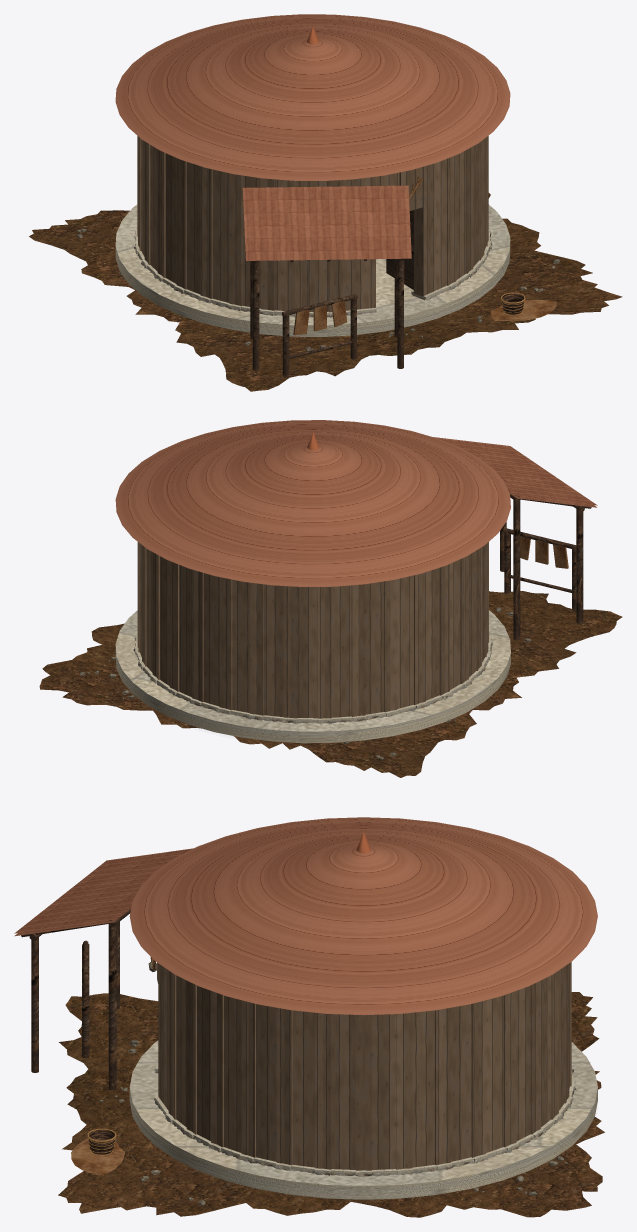
File: hunter@2.glb
3 views of the same model, one above another, from view 1: azimuth 30°, elevation 25°; view 2: azimuth 150°, elevation 25°; view 3: azimuth 270°, elevation 25° (orthographic). The views are drawn at different scales.
Parts seen in each view (by area): view 1: part_15, part_6, part_1, part_5, part_7, part_10, part_4; view 2: part_15, part_6, part_1, part_5, part_7, part_4, part_10; view 3: part_15, part_6, part_1, part_5, part_7, part_4, part_10, part_9.
Part boxes in pixels (<box>): part_15: <box>115,14,510,260</box>; part_6: <box>137,136,488,312</box>; part_1: <box>29,193,622,391</box>; part_5: <box>115,204,510,336</box>; part_7: <box>250,210,413,375</box>; part_10: <box>293,176,556,335</box>; part_4: <box>134,228,492,317</box>; part_15: <box>115,420,597,586</box>; part_6: <box>137,542,488,718</box>; part_1: <box>39,591,622,777</box>; part_5: <box>115,610,510,743</box>; part_7: <box>500,490,591,640</box>; part_4: <box>133,634,492,723</box>; part_10: <box>520,536,568,568</box>; part_15: <box>14,817,597,1014</box>; part_6: <box>157,962,571,1170</box>; part_1: <box>58,992,604,1217</box>; part_5: <box>129,1040,597,1199</box>; part_7: <box>21,909,130,1090</box>; part_4: <box>154,1069,576,1176</box>; part_10: <box>71,957,155,1175</box>; part_9: <box>88,1129,114,1154</box>.
Size of the model in its own units: 6.4 by 3.63 by 7.29.
18 materials, 13 textured.
